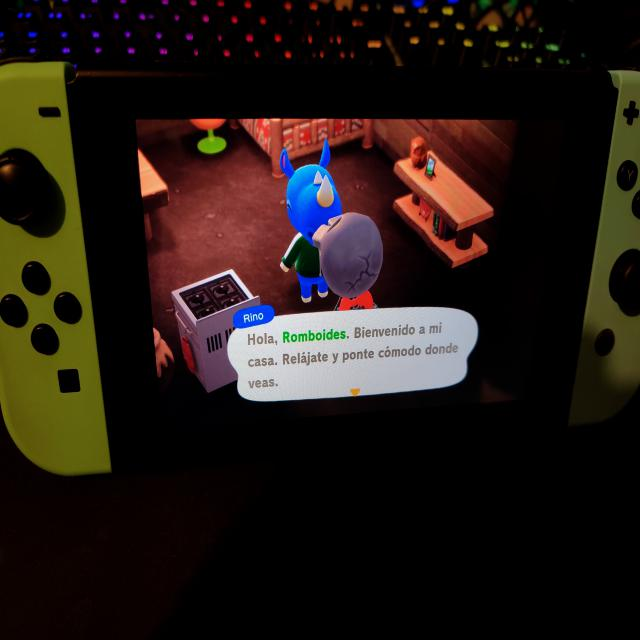text_bubble: (227, 305, 483, 406)
